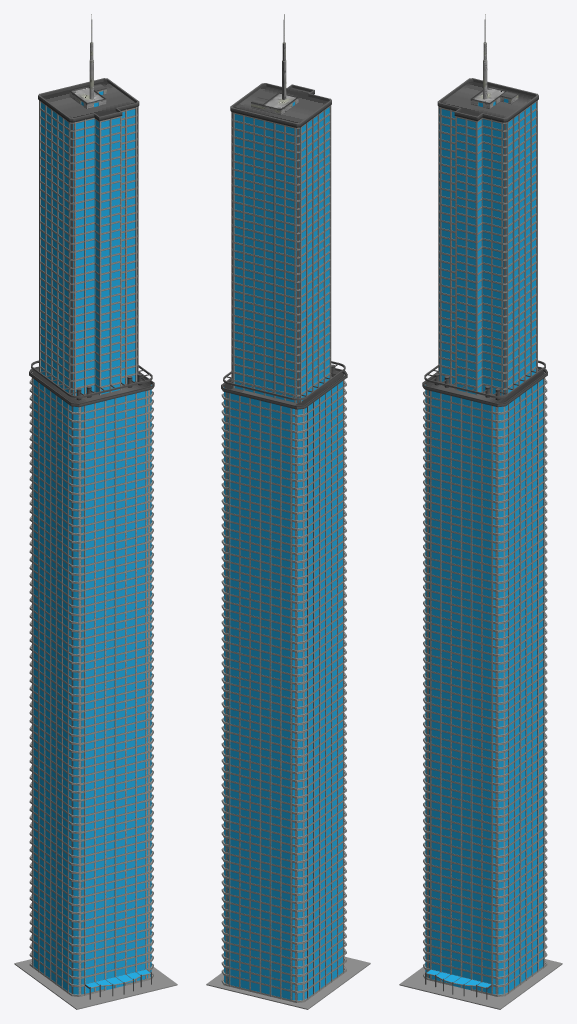
Rendered from skyscraper.glb.
The picture shows the model from 3 angles, left to right: view 1: azimuth 30°, elevation 25°; view 2: azimuth 150°, elevation 25°; view 3: azimuth 330°, elevation 25°; orthographic projection.
Parts seen in each view (by area): view 1: Object_6, Object_5, Object_4, Object_3, Object_2; view 2: Object_6, Object_5, Object_4, Object_3, Object_2; view 3: Object_6, Object_5, Object_4, Object_3, Object_2.
Part boxes in pixels (left/top/right/bottom): Object_6: left=33, top=91, right=151, bottom=994; Object_5: left=32, top=14, right=150, bottom=995; Object_4: left=29, top=378, right=153, bottom=996; Object_3: left=29, top=78, right=154, bottom=999; Object_2: left=14, top=959, right=177, bottom=1009; Object_6: left=224, top=102, right=342, bottom=1000; Object_5: left=225, top=14, right=344, bottom=1001; Object_4: left=221, top=380, right=346, bottom=1002; Object_3: left=221, top=83, right=347, bottom=960; Object_2: left=206, top=956, right=370, bottom=1009; Object_6: left=425, top=98, right=543, bottom=994; Object_5: left=426, top=14, right=544, bottom=995; Object_4: left=423, top=378, right=547, bottom=996; Object_3: left=422, top=78, right=547, bottom=999; Object_2: left=399, top=959, right=562, bottom=1009.
Bounding box in the file's own units: 64.33 × 582 × 68.93.
Materials: 4 (3 with a texture image).
